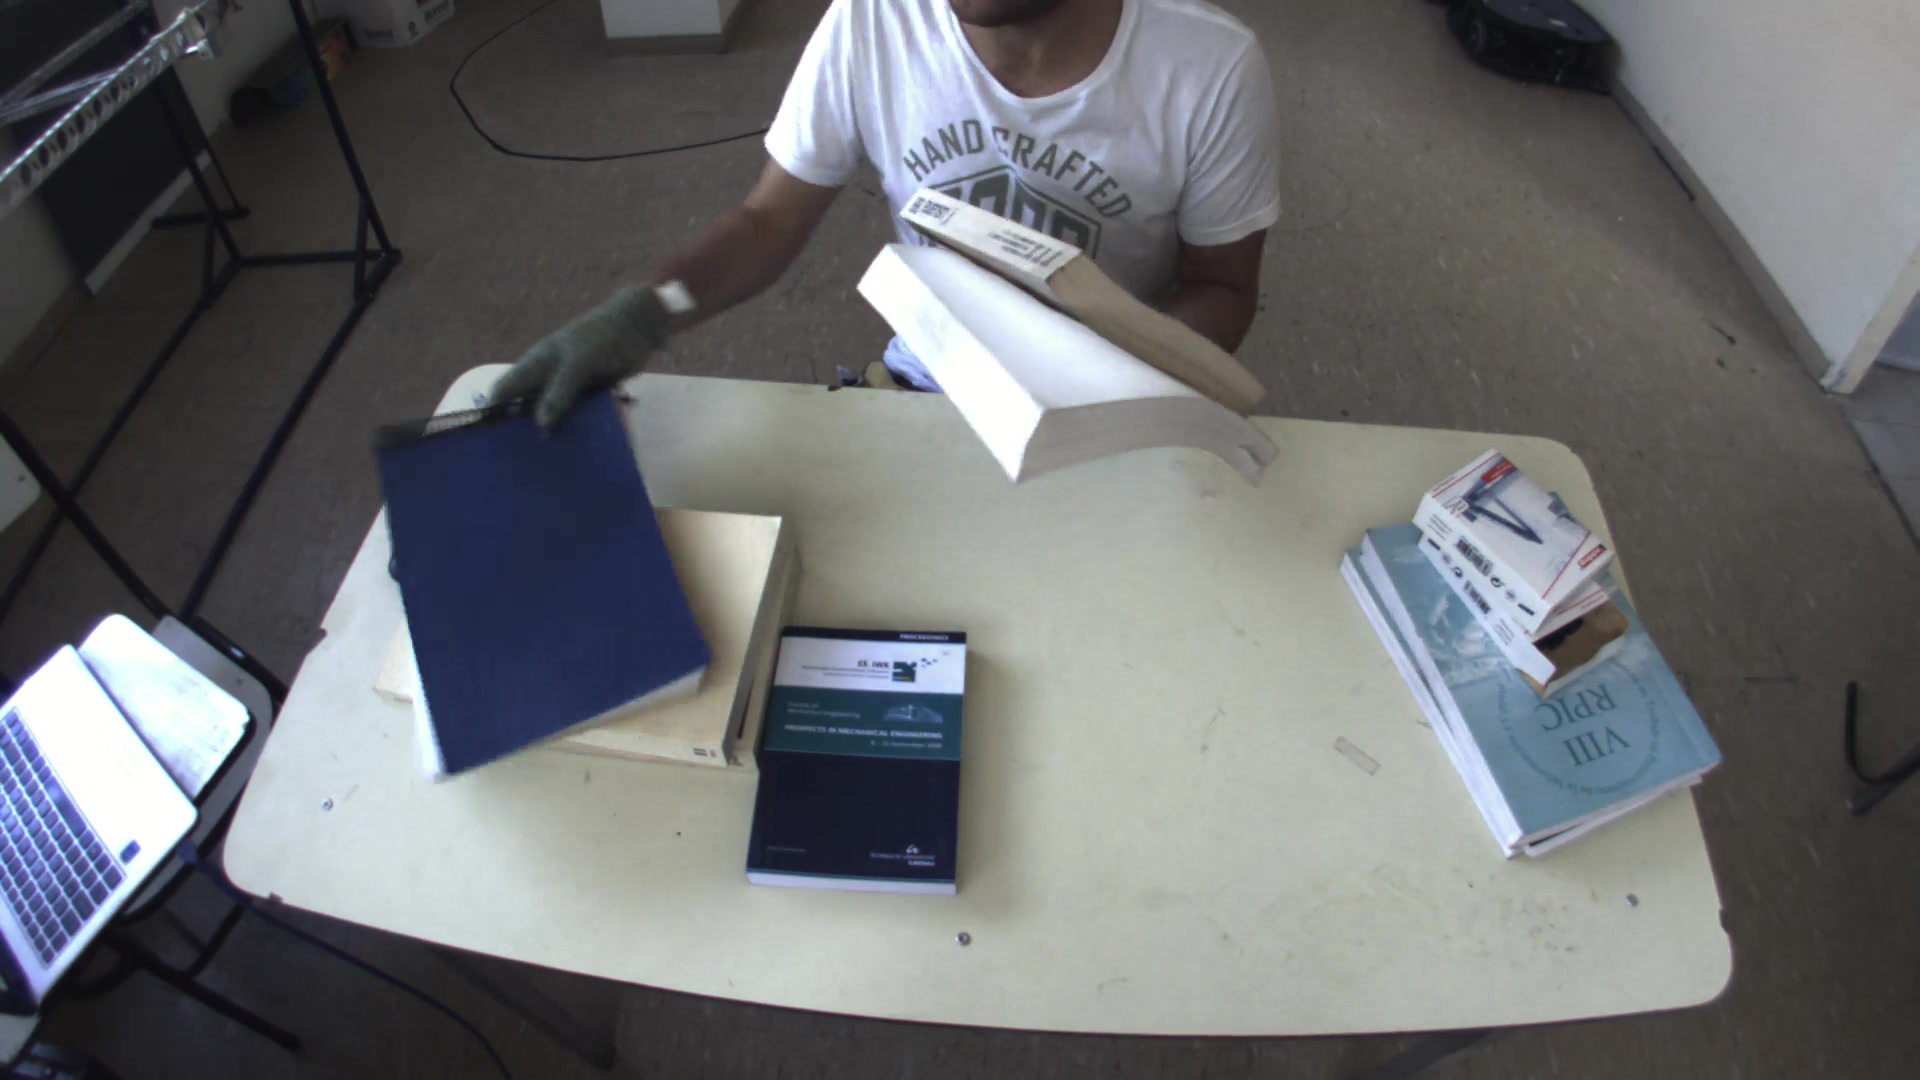hand: (479, 273, 673, 436)
